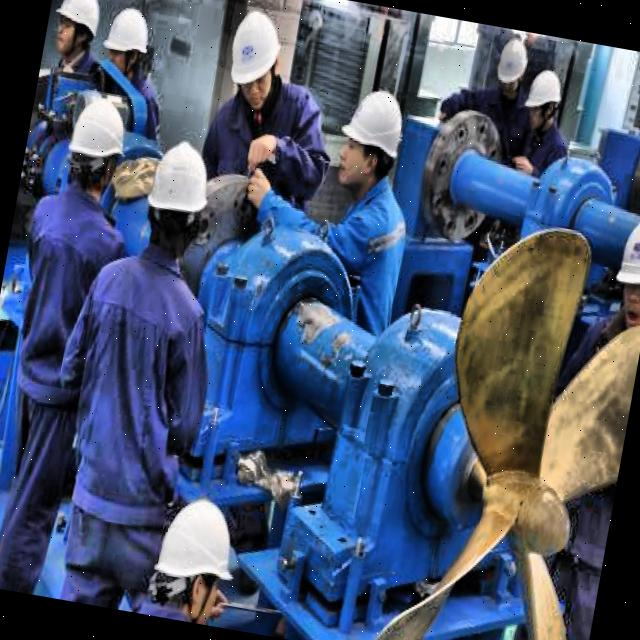helmet: (141, 474, 251, 626), (328, 76, 412, 202), (136, 134, 220, 258), (220, 0, 290, 117), (59, 95, 133, 196), (603, 201, 640, 331), (98, 0, 156, 81), (49, 0, 106, 64), (520, 64, 564, 138), (490, 34, 533, 98)
